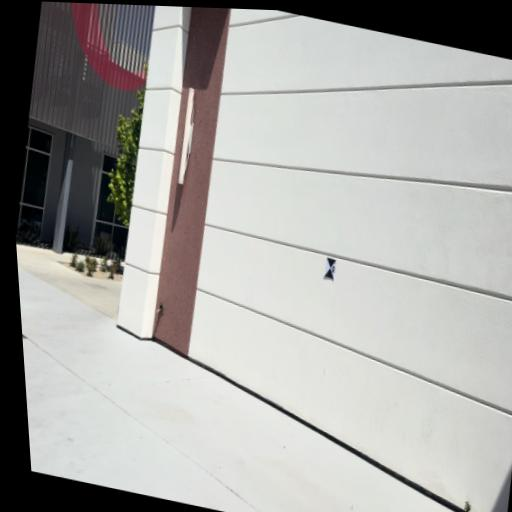target0: (324, 256, 337, 281)
